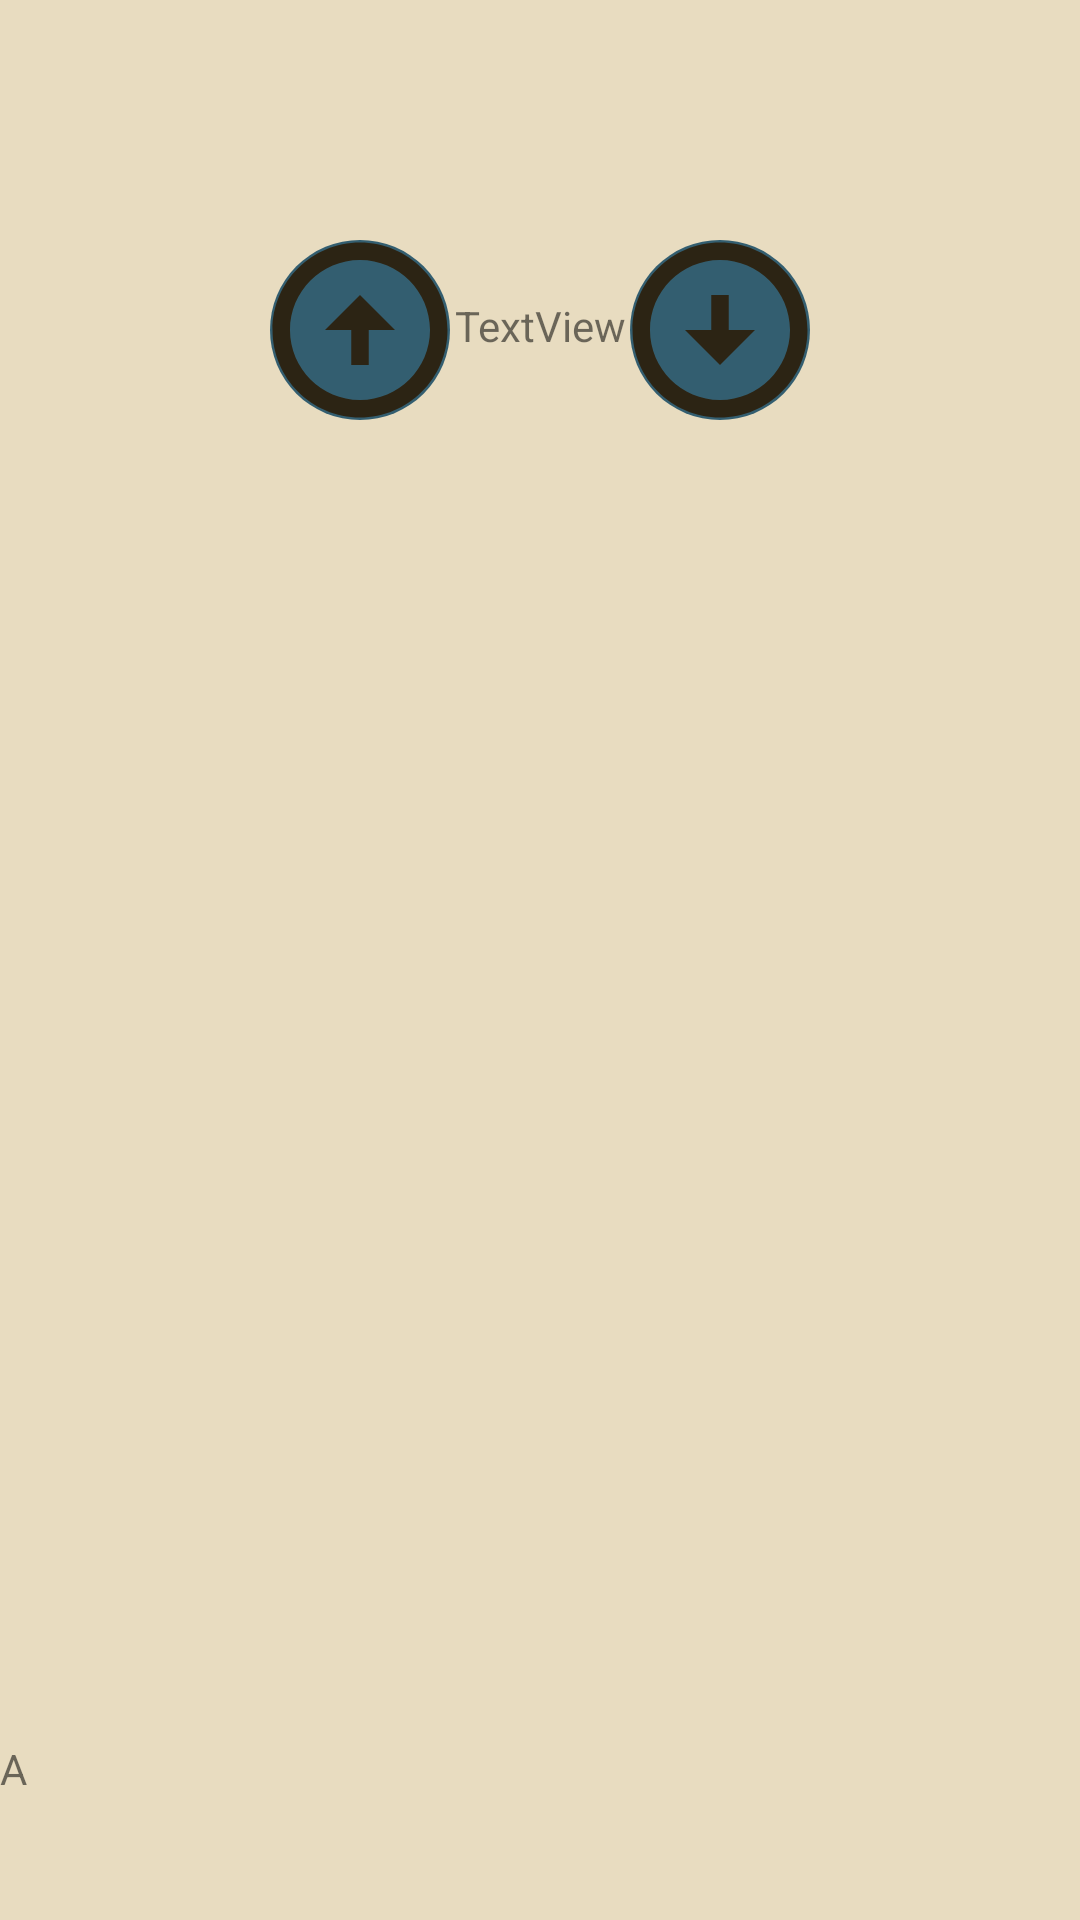

Named icons in this screenshot (1080x1920) and their centers, point (x, y):
buton up: point (360, 330)
button down: point (720, 330)
